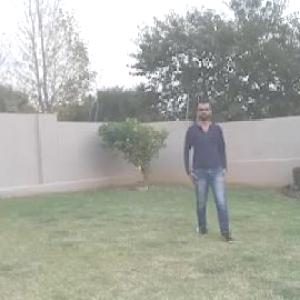follow: (189, 97, 228, 229)
